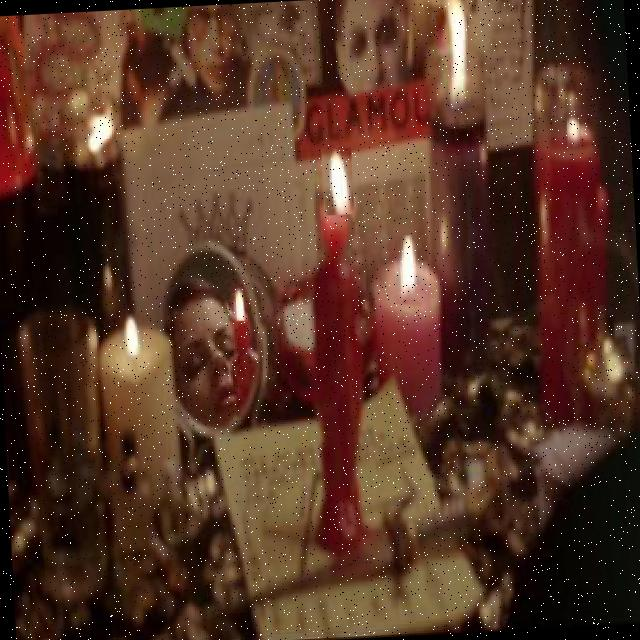fire: (444, 0, 471, 109), (392, 234, 430, 304), (322, 147, 354, 215), (118, 302, 144, 356), (227, 284, 245, 322), (566, 112, 580, 148)
